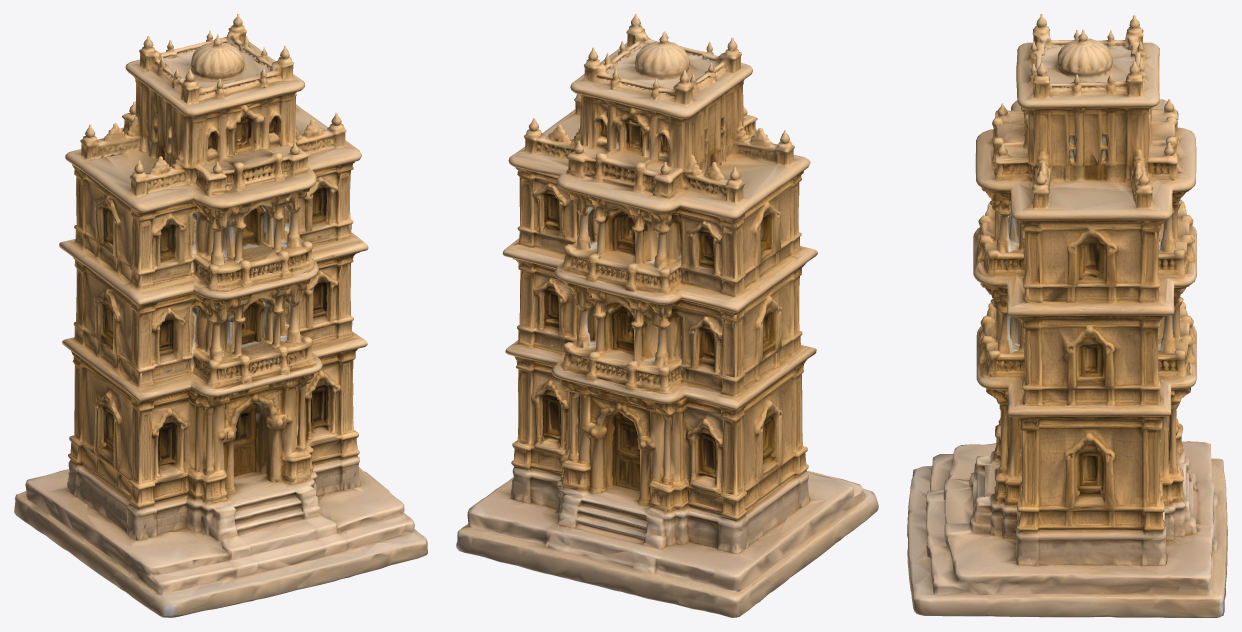
The model's file is Tiered_Jaipur_Palace.glb.
The picture shows the model from 3 angles, left to right: view 1: azimuth 30°, elevation 25°; view 2: azimuth 150°, elevation 25°; view 3: azimuth 270°, elevation 25°; orthographic projection. The views are drawn at different scales.
Parts seen in each view (by area): view 1: Tiered_Jaipur_Palace; view 2: Tiered_Jaipur_Palace; view 3: Tiered_Jaipur_Palace.
Part boxes in pixels (x1,y1,x2,y2): Tiered_Jaipur_Palace: [14, 14, 427, 617]; Tiered_Jaipur_Palace: [456, 14, 878, 617]; Tiered_Jaipur_Palace: [907, 14, 1227, 617].
Bounding box in the file's own units: 1.12 × 1.9 × 1.07.
Materials: 1 (1 with a texture image).
